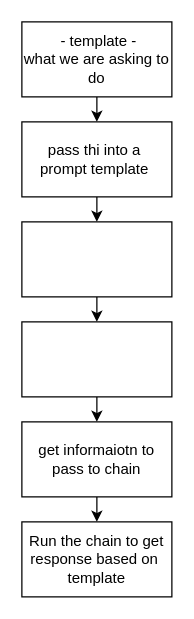
Image size: 194x619. Some labels were removed from this diagram. Here are the shapes that lost their labels. From the top down, the box of each, then its label:
(21, 221, 172, 297): select engine
(21, 321, 172, 397): create LLCHain and pass Engine and template to it
